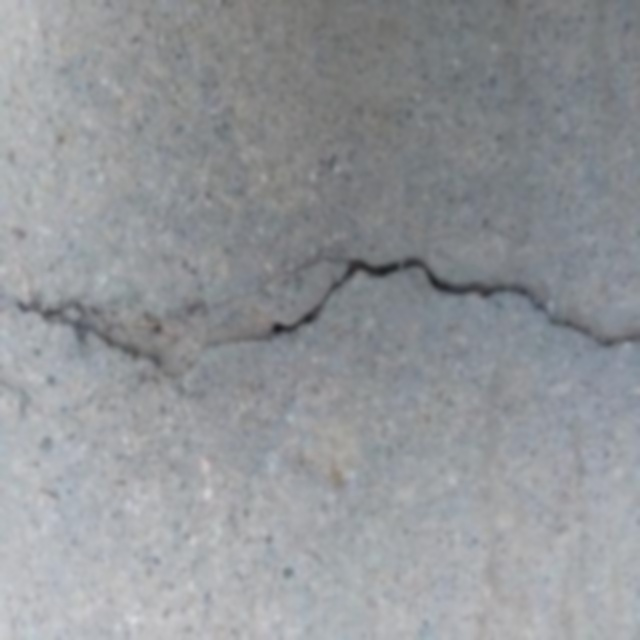SurfaceCrack: (12, 238, 640, 402)
